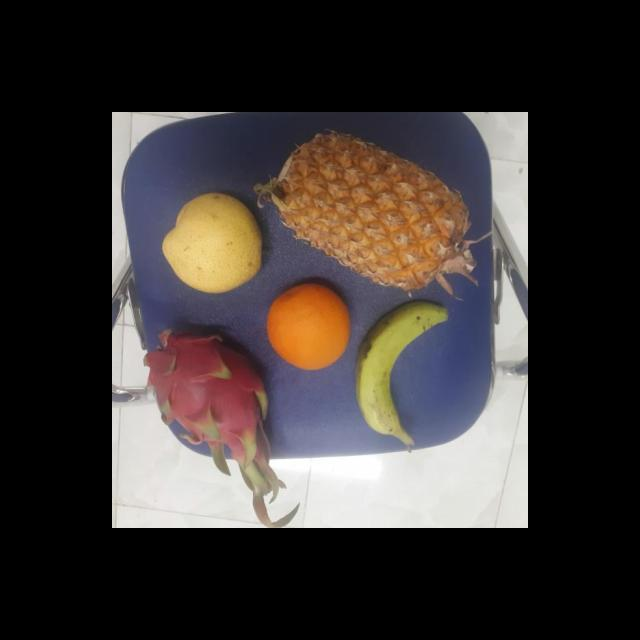banana: (357, 302, 445, 444)
orange: (265, 284, 355, 371)
pear: (160, 192, 271, 292)
pineapple: (270, 133, 480, 296)
pitaya: (150, 324, 276, 462)
